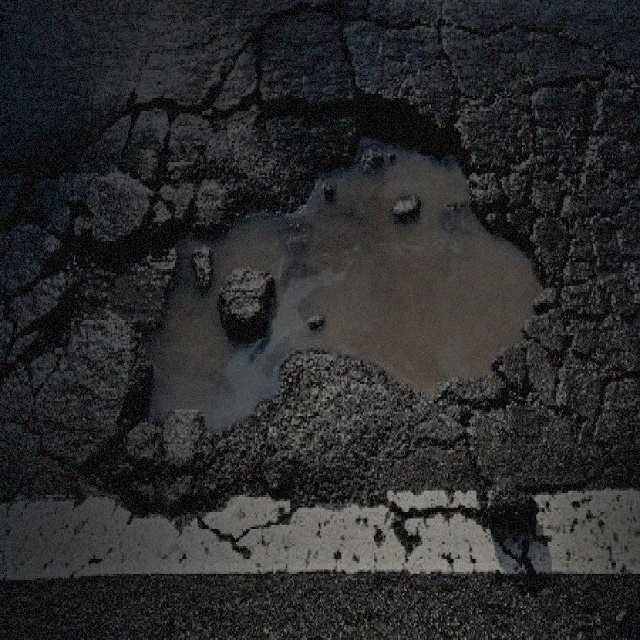pothole: (75, 81, 558, 514)
